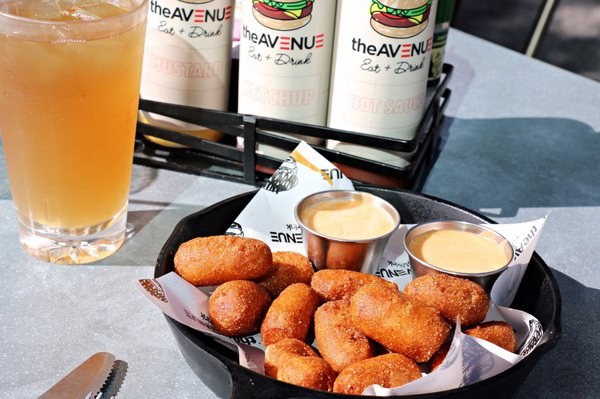pizza: (295, 190, 401, 276)
sushi: (294, 190, 401, 276), (403, 221, 514, 291)
